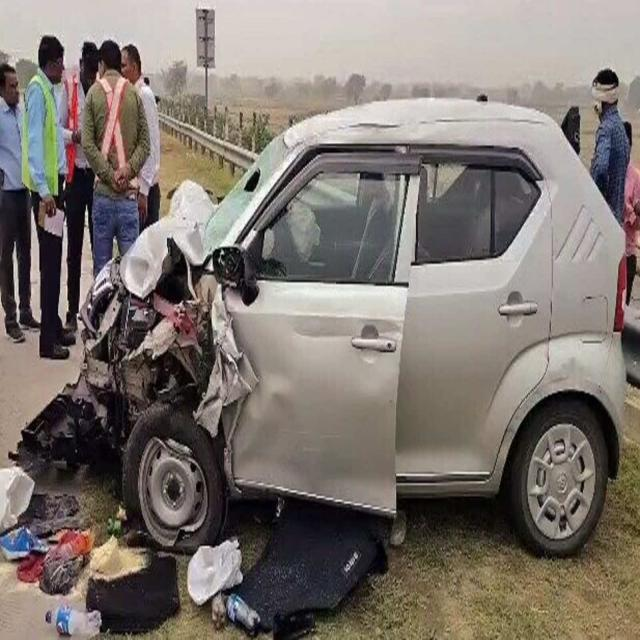accident: (18, 98, 625, 553)
